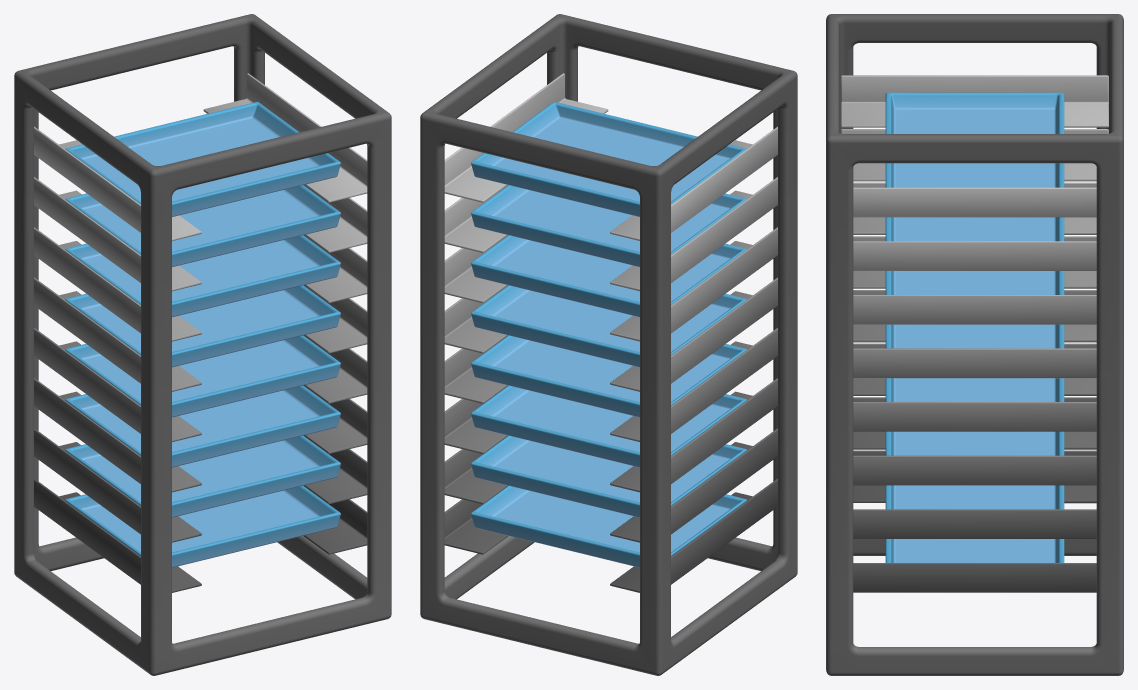
Rendered from HH_TrayRack.fbx.
3 views of the same model, side by side, from view 1: azimuth 30°, elevation 25°; view 2: azimuth 150°, elevation 25°; view 3: azimuth 270°, elevation 25° (orthographic). The views are drawn at different scales.
Visible parts, largest first — view 1: TrayRack; view 2: TrayRack; view 3: TrayRack.
Boxes of the visible parts, x1,y1,x2,y2 form: TrayRack: (14, 14, 391, 675); TrayRack: (420, 14, 797, 675); TrayRack: (826, 14, 1123, 675).
Size of the model in its own units: 100 by 200 by 100.
1 material, 1 textured.
